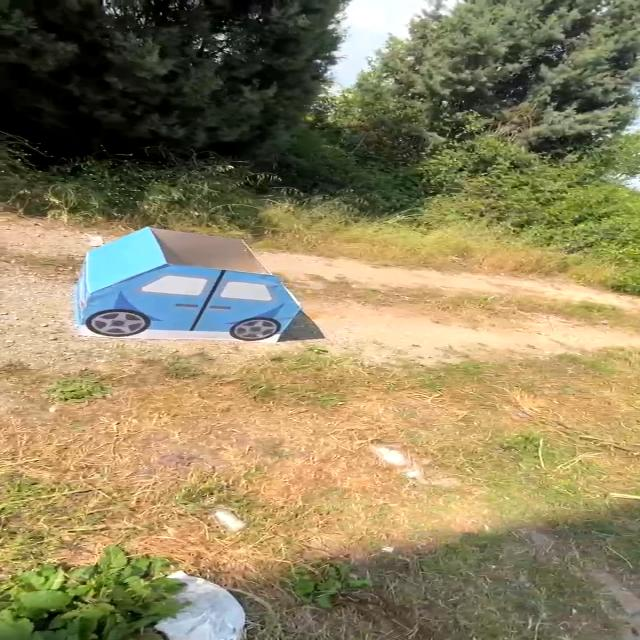blue_car: (32, 214, 324, 354)
